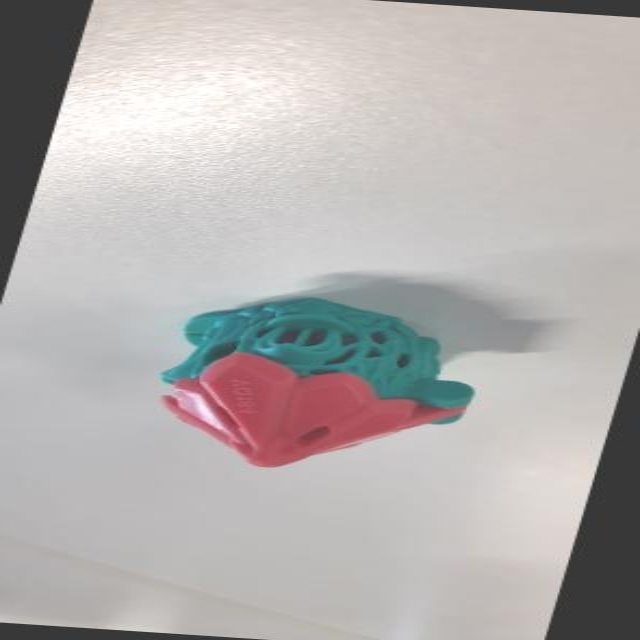House: (111, 278, 514, 490)
